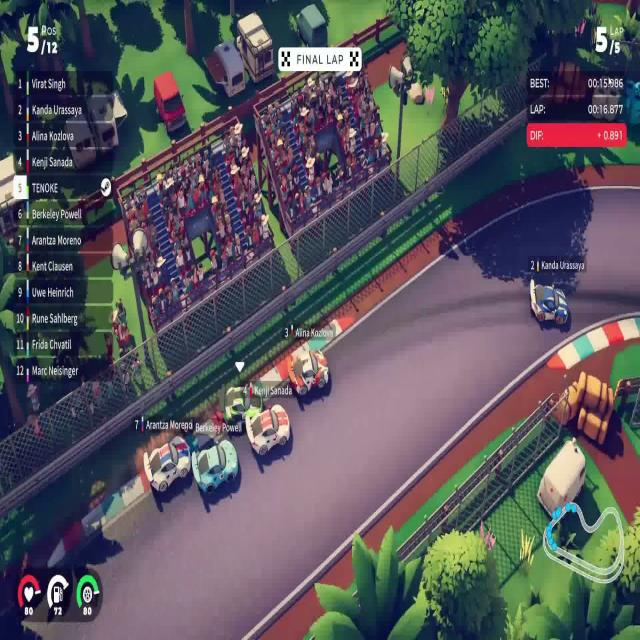car: (143, 434, 191, 495), (190, 437, 239, 496), (244, 402, 290, 457), (286, 346, 330, 397), (529, 278, 569, 326), (223, 382, 263, 429)
